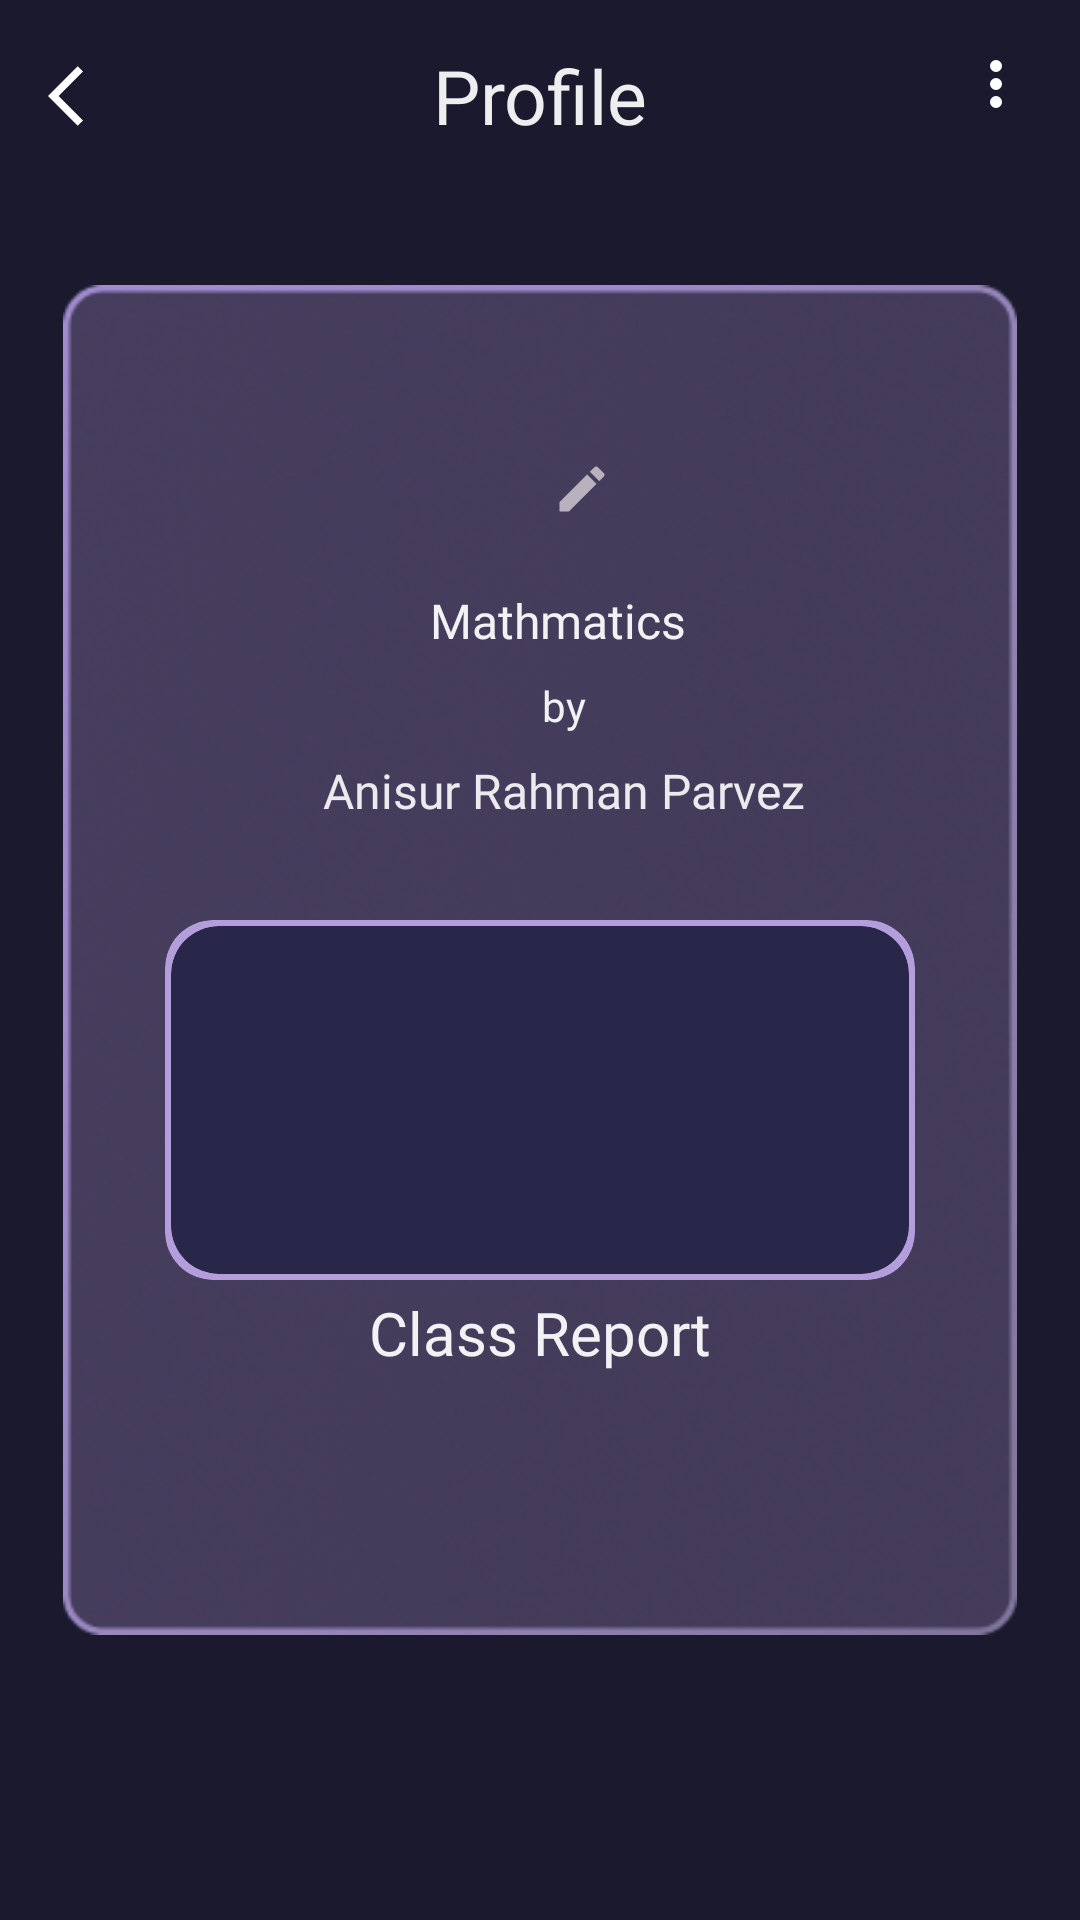

Icons on this 1080px×1920px Android screen, each with the point to tap as (x=x, y=y):
edit: (x=582, y=489)
more vert: (x=996, y=84)
